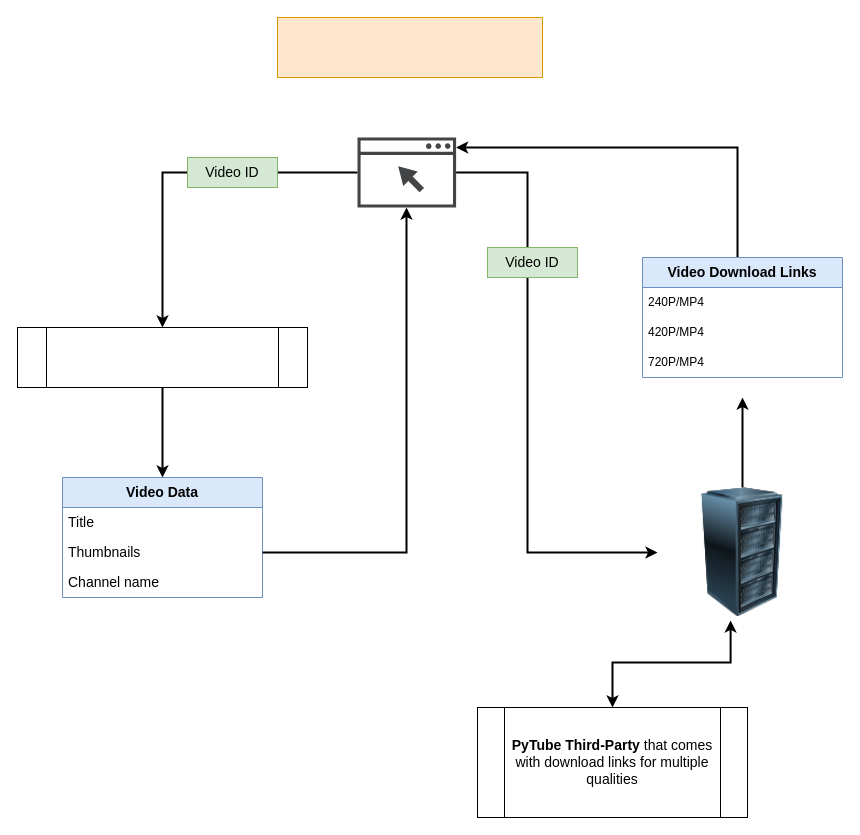
Some shapes in this 860 by 835 pixel diagram are drawn without their labels. The centre of each missing label's shape, as x and y in pixels:
You enter the video link and click search: pixel 409 47
YouTube API: pixel 162 357
